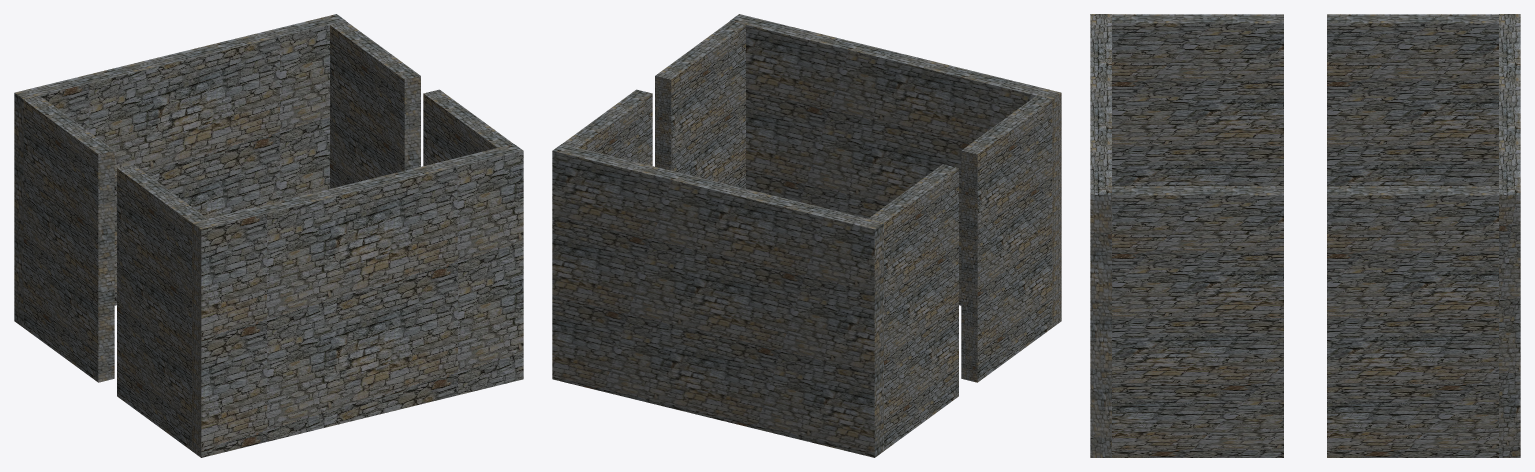
Rendered from 3x3construction.glb.
3 views of the same model, side by side, from view 1: azimuth 30°, elevation 25°; view 2: azimuth 150°, elevation 25°; view 3: azimuth 270°, elevation 25° (orthographic). The views are drawn at different scales.
Visible parts, largest first — view 1: Cube.002; view 2: Cube.002; view 3: Cube.002.
Part boxes in pixels (x1,y1,x2,y2): Cube.002: (14,14,523,457); Cube.002: (552,14,1061,457); Cube.002: (1090,14,1520,457).
Size of the model in its own units: 2.96 by 2 by 2.97.
1 material, 1 textured.
